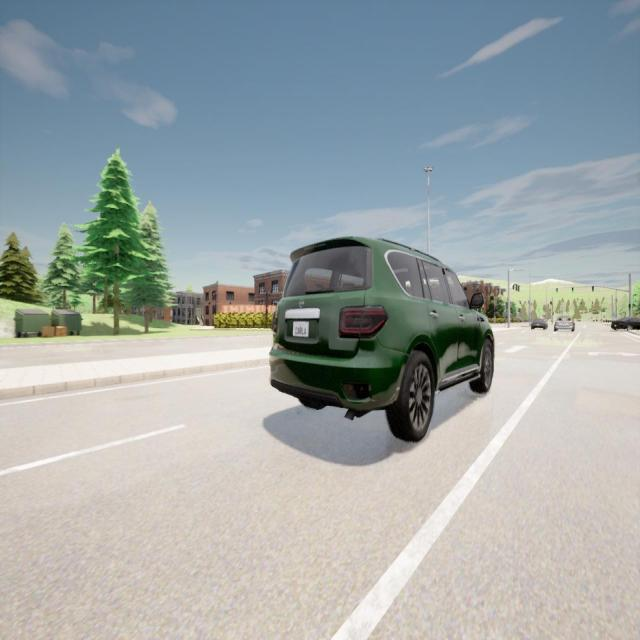Vehicle: (269, 237, 494, 441), (611, 317, 640, 332), (554, 315, 575, 332), (531, 319, 548, 330)
traffic_light: (628, 304, 630, 311), (592, 286, 594, 293), (556, 288, 558, 294), (516, 284, 517, 290), (518, 286, 519, 292), (572, 288, 573, 293), (513, 285, 514, 289)
